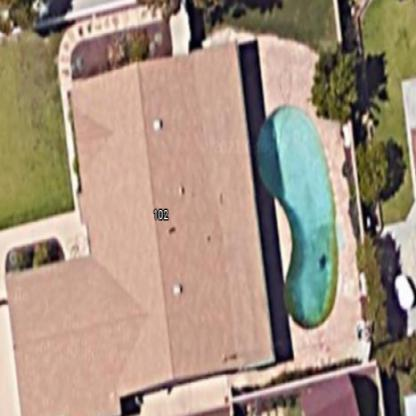pool: (253, 95, 341, 338)
